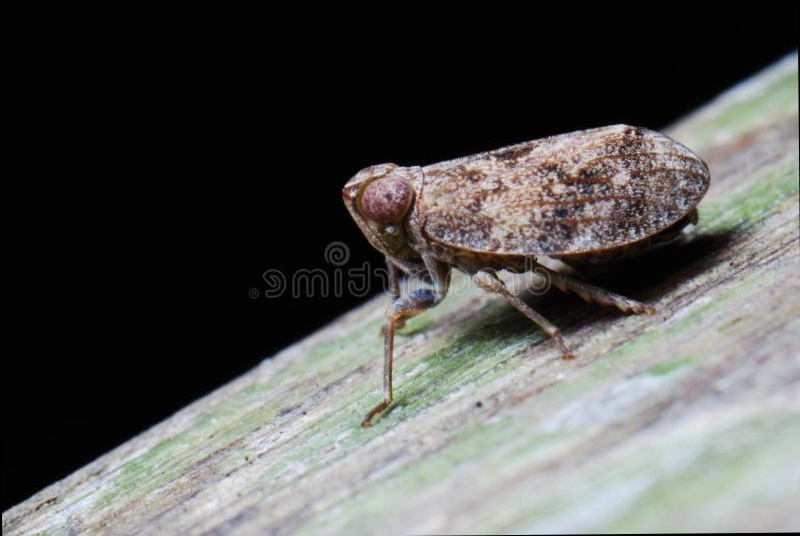Brown_hopper: (348, 116, 706, 370)
